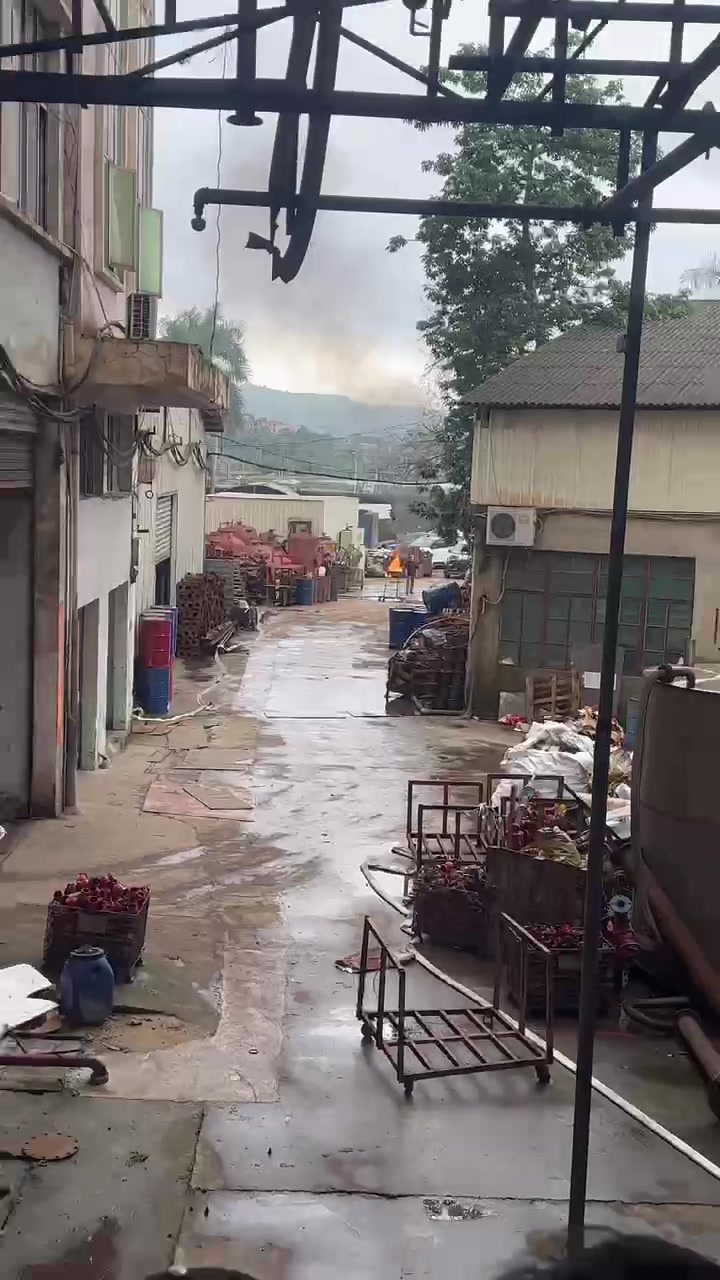fire: (388, 554, 402, 571)
